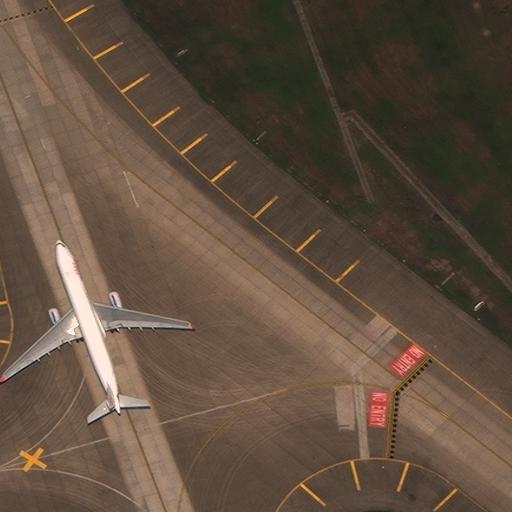Large Civil Transport: (0, 236, 192, 413)
